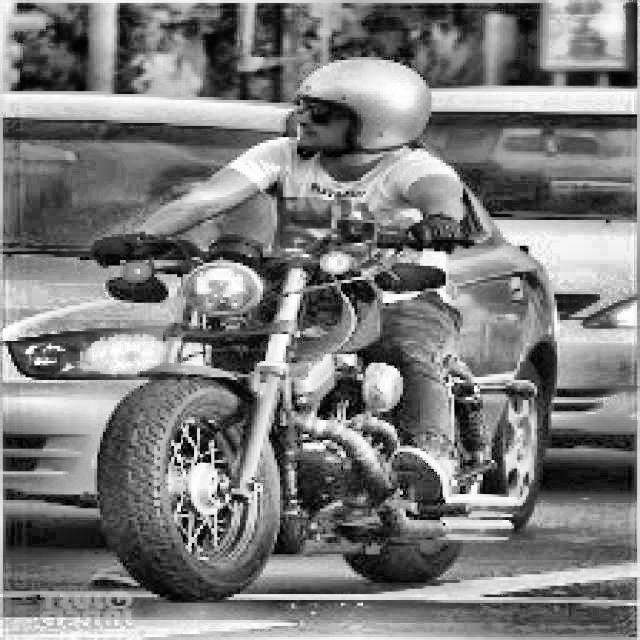motorcycle: (72, 207, 557, 605)
